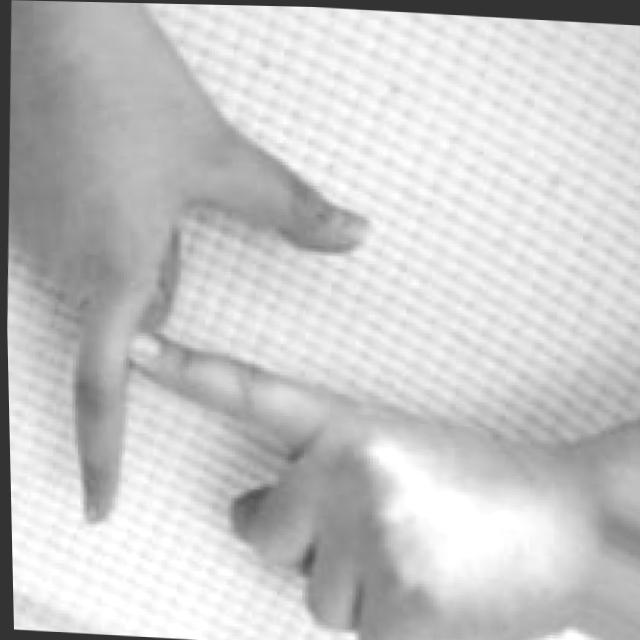F: (2, 73, 580, 640)
